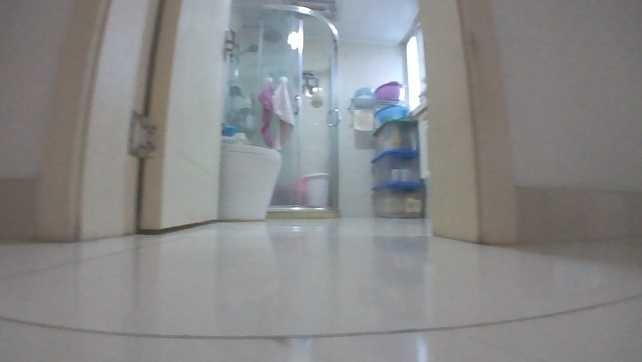door_anno: (139, 0, 239, 230)
toilet: (218, 142, 285, 220)
